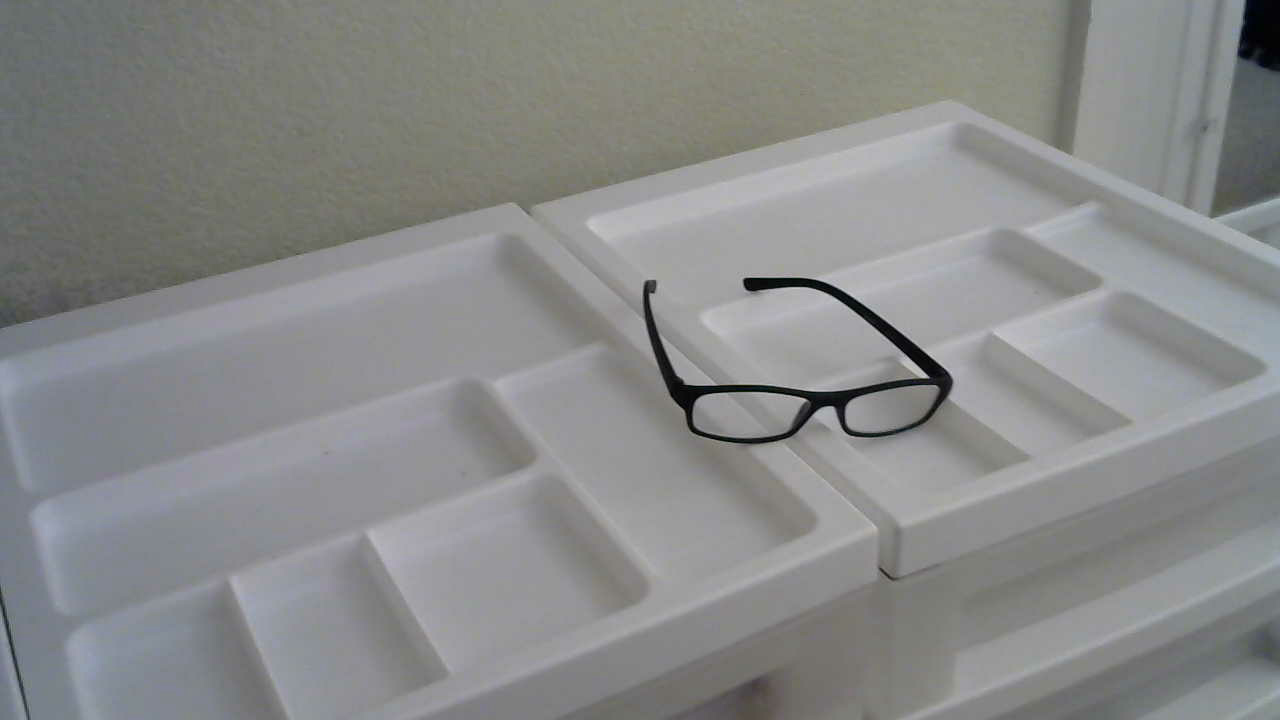Glasses: (617, 277, 965, 447)
